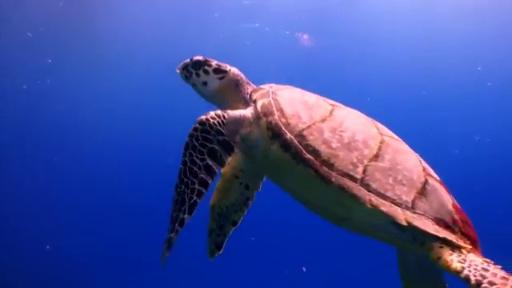Fish: (163, 56, 511, 287)
